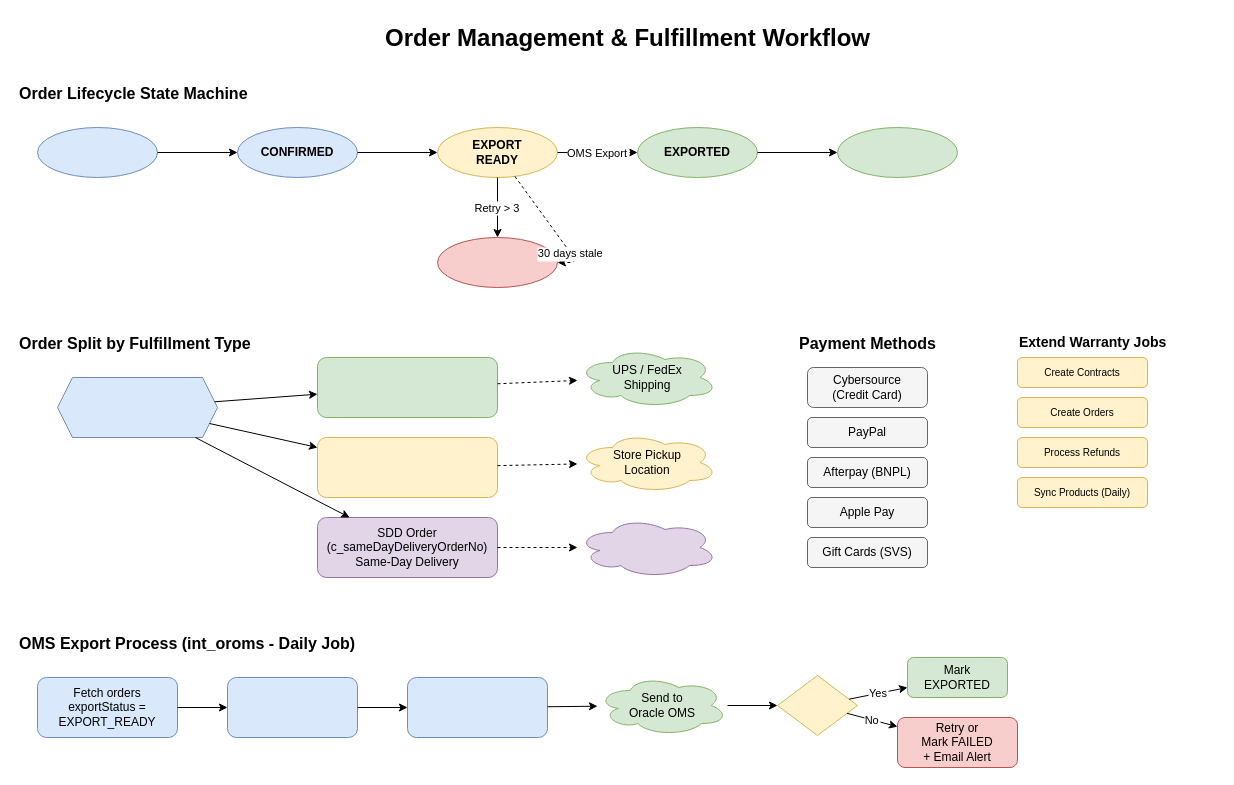
Some shapes in this 1234 by 785 pixel diagram are drawn without their labels. The shapes that lost their labels are listed below. From the top down, each one's centre as x and y in pixels, then its label:
At [97,152]: "CREATED".
At [897,152]: "COMPLETED".
At [497,262]: "EXPORT FAILED".
At [137,407]: "Primary Order".
At [407,387]: "Delivery Order (c_deliveryOrderNo) Standard Shipping".
At [407,467]: "BOPIS Order (c_bopisOrderNo) Store Pickup".
At [647,547]: "GoLocal Same-Day".
At [292,707]: "Batch process (default: 1000)".
At [477,707]: "GenerateXML.js Create XML representation".
At [817,705]: "Success?".
